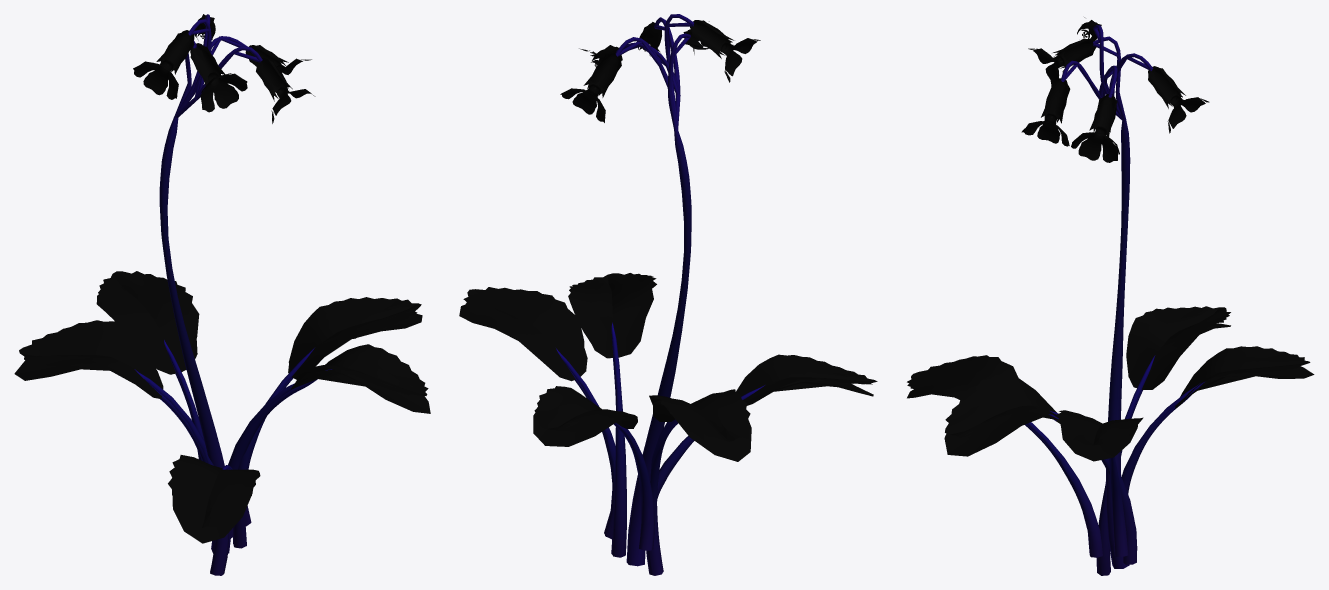
The model's file is Flowers.fbx.
3 renders of one model, left to right at view 1: azimuth 30°, elevation 25°; view 2: azimuth 150°, elevation 25°; view 3: azimuth 270°, elevation 25°, orthographic. The views are drawn at different scales.
Visible parts, largest first — view 1: Higy poly, Low poly; view 2: Higy poly, Low poly; view 3: Higy poly, Low poly.
Part boxes in pixels (x1=…): Higy poly: x1=19, y1=14, x2=428, y2=575; Low poly: x1=14, y1=14, x2=430, y2=575; Higy poly: x1=463, y1=14, x2=877, y2=575; Low poly: x1=459, y1=20, x2=873, y2=575; Higy poly: x1=907, y1=17, x2=1310, y2=575; Low poly: x1=907, y1=20, x2=1314, y2=575.
Size of the model in its own units: 965 by 1508 by 1036.
